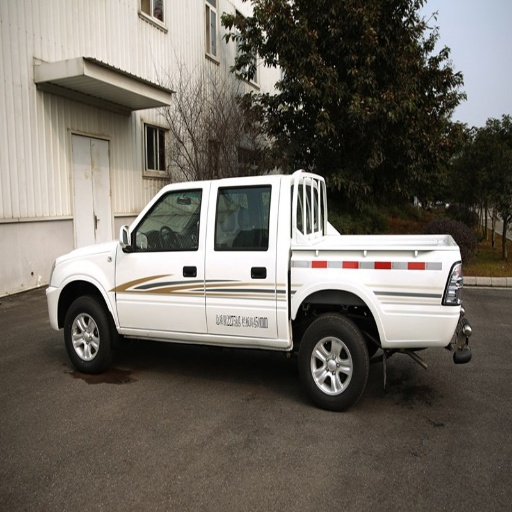back_left_door: (205, 189, 273, 333)
trunk: (259, 244, 452, 350)
